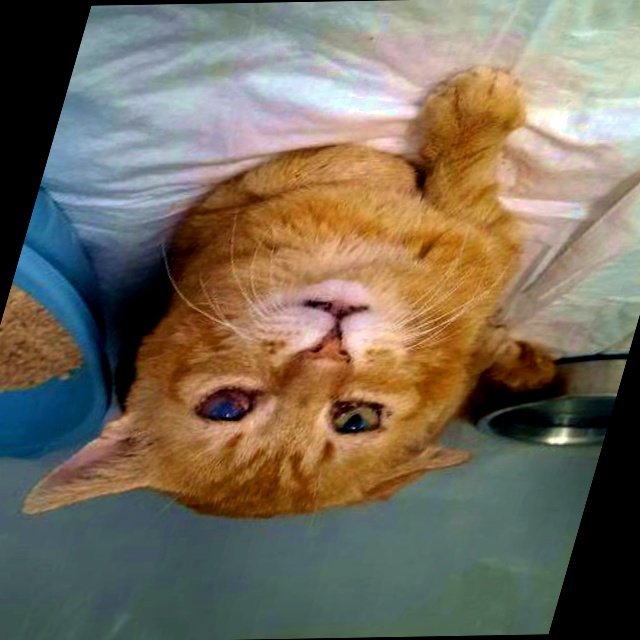eye_infection: (191, 380, 264, 428), (319, 395, 393, 439)
